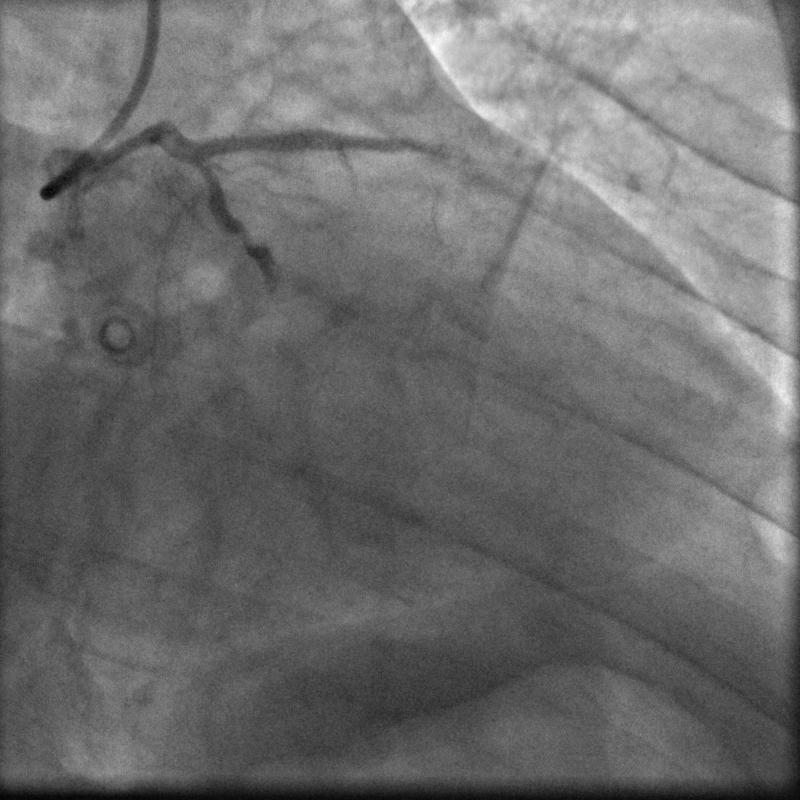Stenosis: (237, 225, 258, 245)
